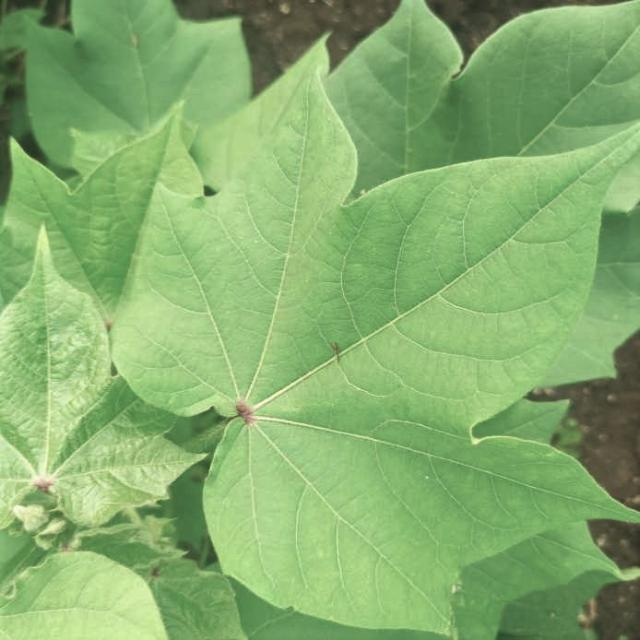Healthy Leaf: (81, 79, 589, 497)
